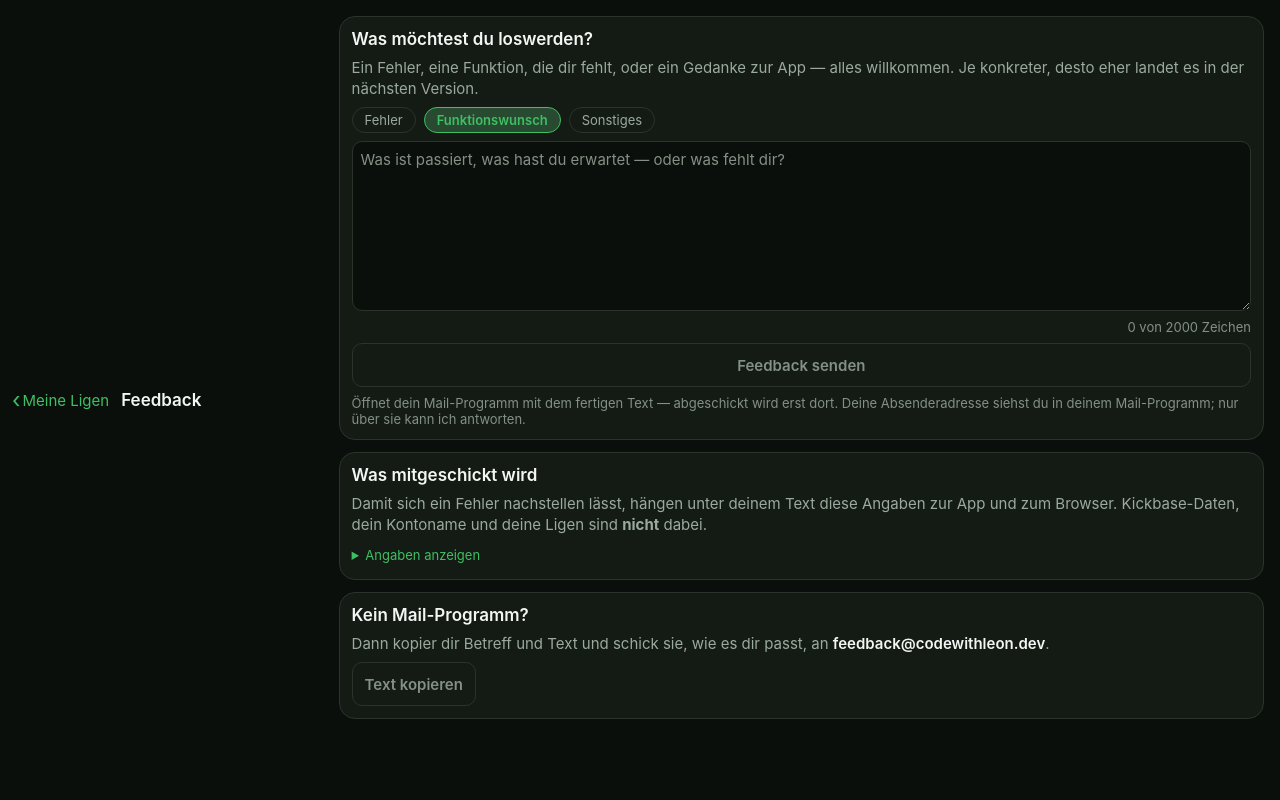
Test: FeedbackScreen › behauptet nichts, was es nicht weiß — die Tafel nennt das Mail-Programm
Type "Kaputt." into the text box named "Dein Feedback" at coordinates (801, 226), box [352,141,1251,311]
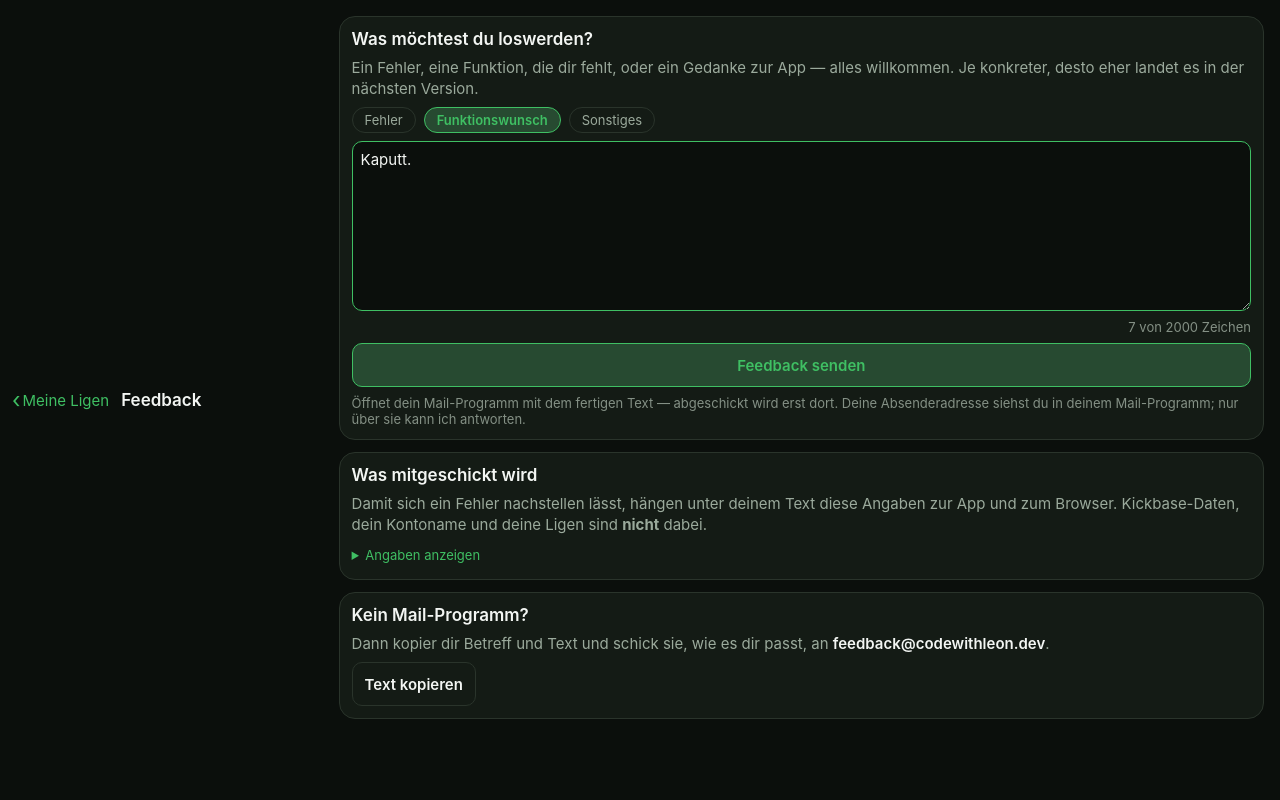
Click the button "Feedback senden" at coordinates (801, 365), box [352,343,1251,387]
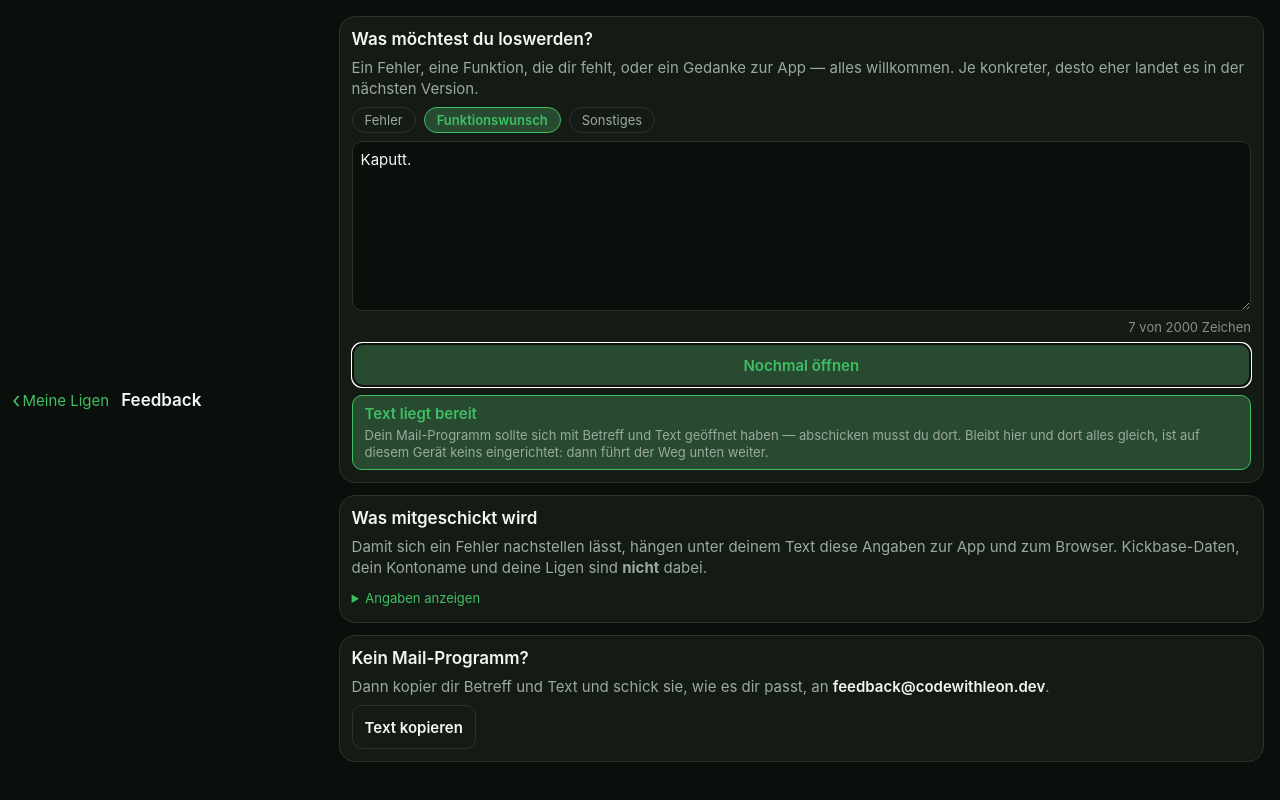
expect the message shows "Text liegt bereit": met, box [365,404,477,423]
expect the message shows "Mail-Programm sollte sich": met, box [365,427,1200,460]
